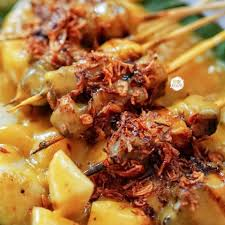sate: (2, 2, 225, 208)
